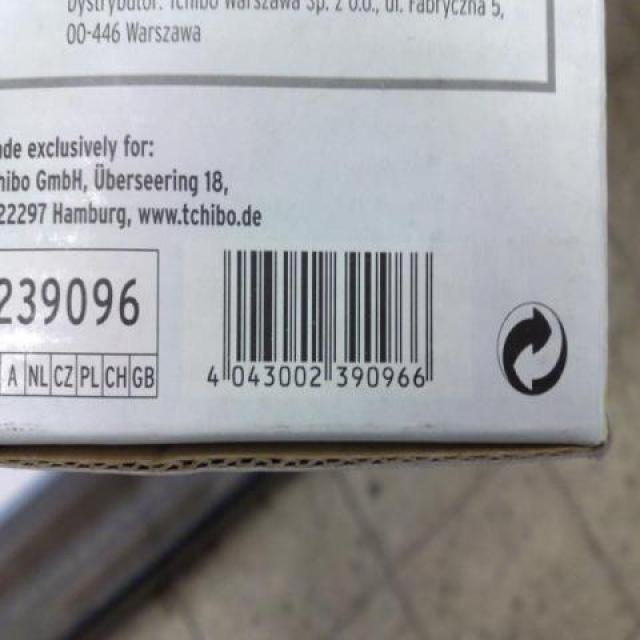Barcode: (183, 243, 470, 397)
